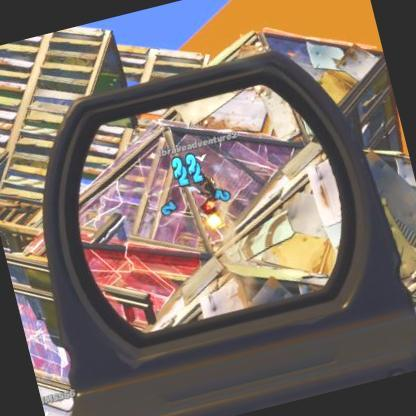person: (185, 164, 230, 230)
